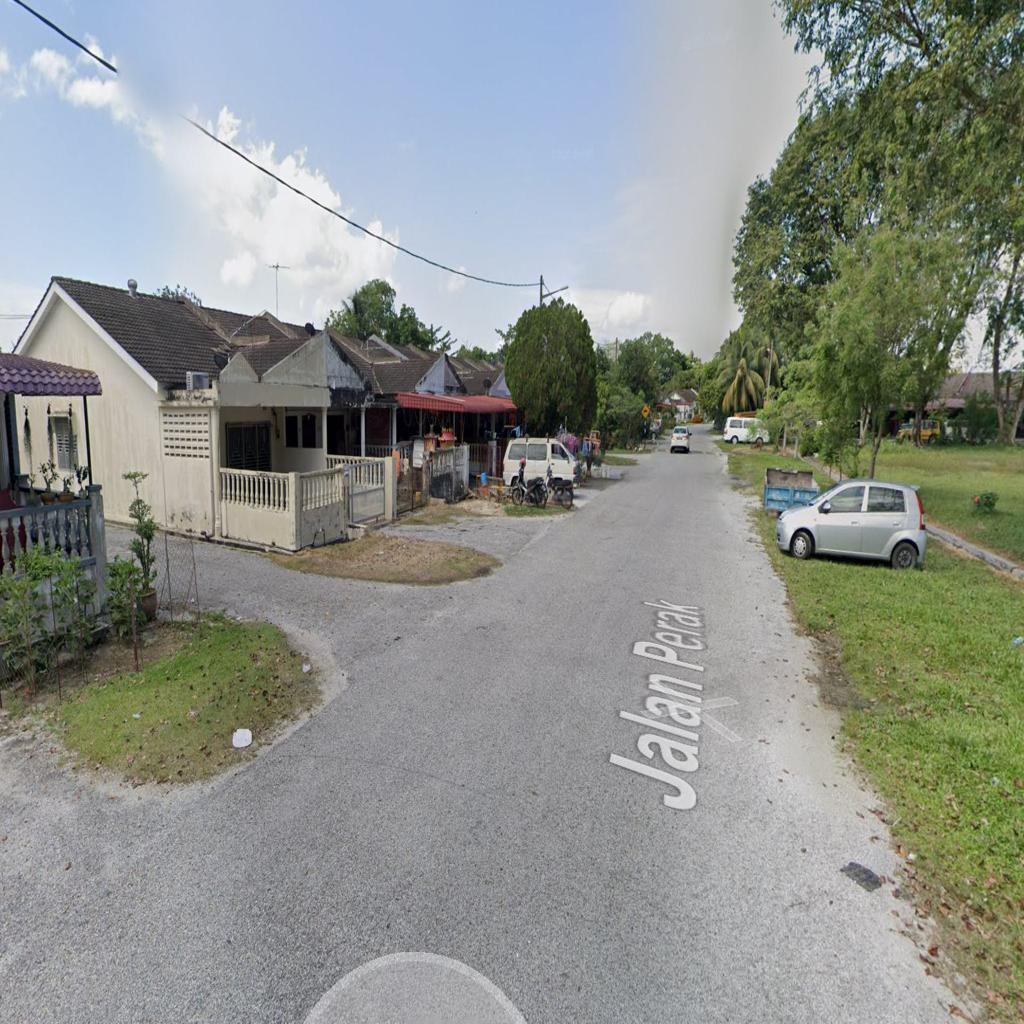Junction: (107, 473, 442, 702)
